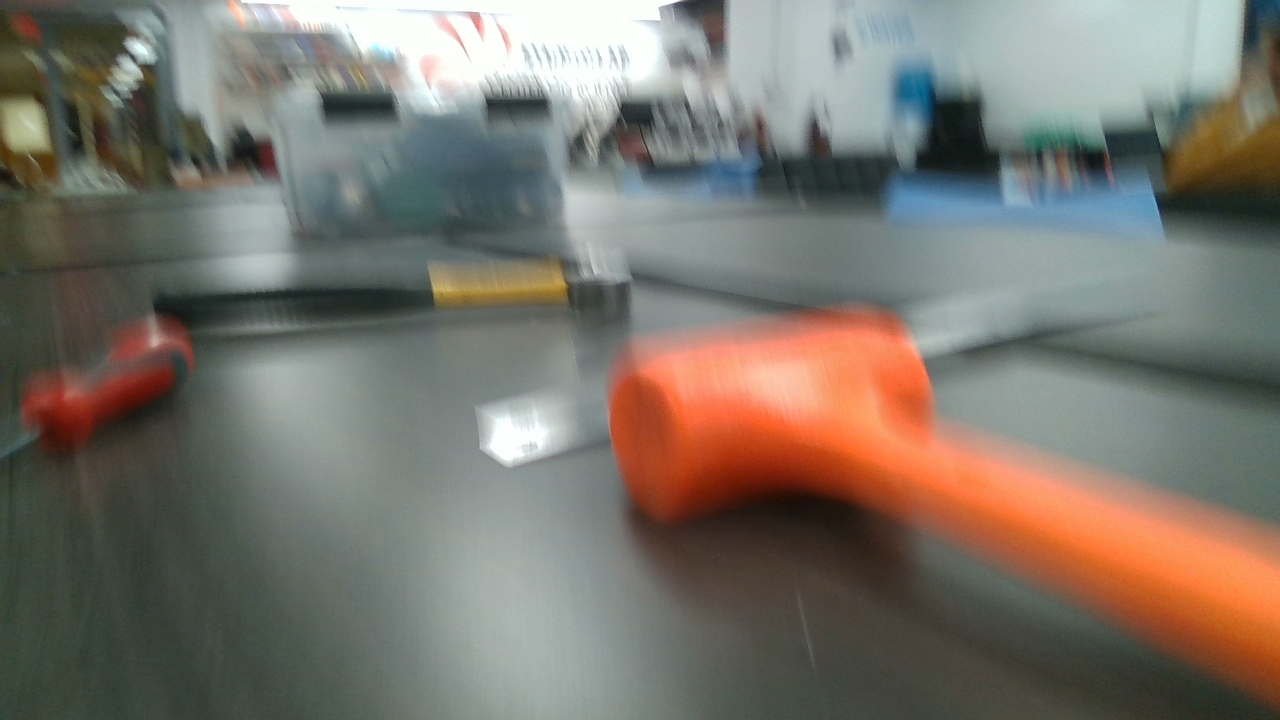Orange Hammer: (608, 305, 1275, 720)
